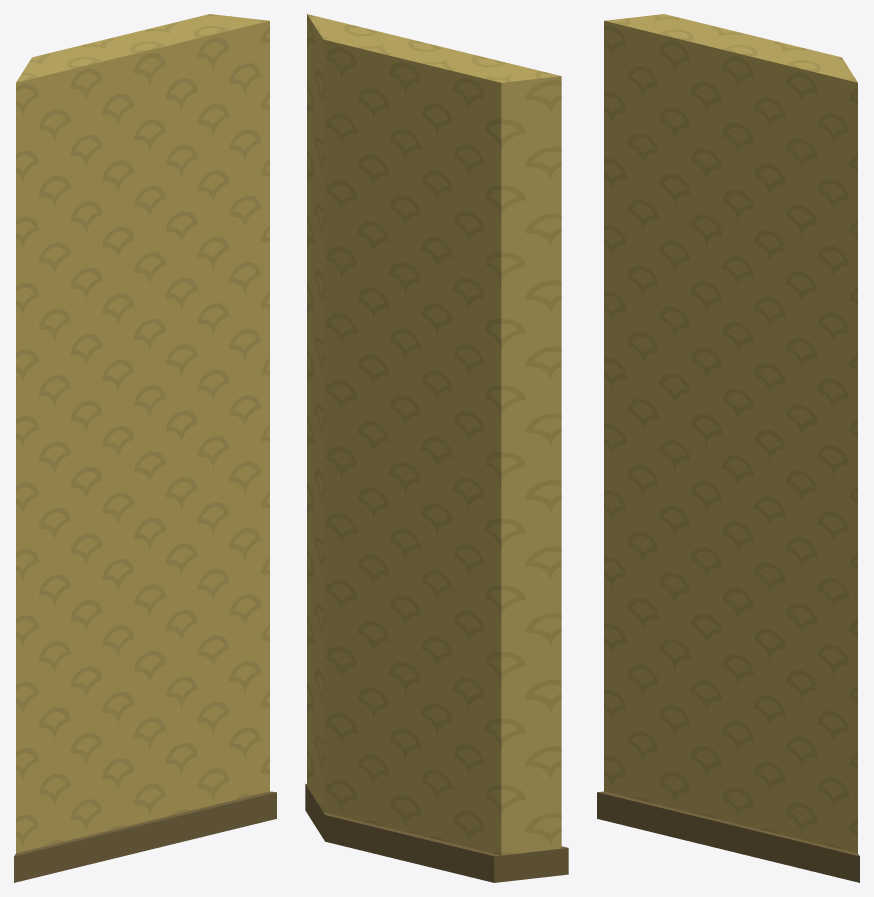
The model's file is BackRoomsWall01Corner04.FBX.
3 renders of one model, left to right at view 1: azimuth 30°, elevation 25°; view 2: azimuth 150°, elevation 25°; view 3: azimuth 330°, elevation 25°, orthographic.
Visible parts, largest first — view 1: BackRoomsWall01Corner04; view 2: BackRoomsWall01Corner04; view 3: BackRoomsWall01Corner04.
Part boxes in pixels (x1,y1,x2,y2): BackRoomsWall01Corner04: [14, 14, 276, 882]; BackRoomsWall01Corner04: [305, 14, 568, 882]; BackRoomsWall01Corner04: [597, 14, 859, 882].
Bounding box in the file's own units: 104 × 18.54 × 300.
